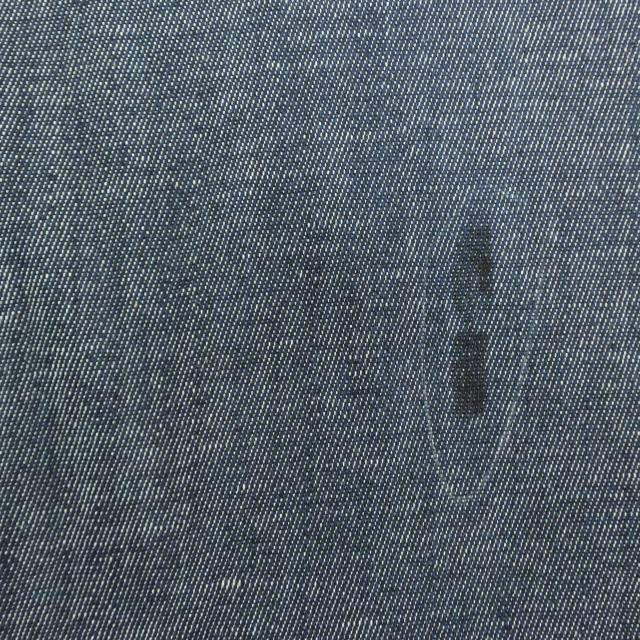stain: (439, 211, 500, 329), (450, 323, 493, 421)
